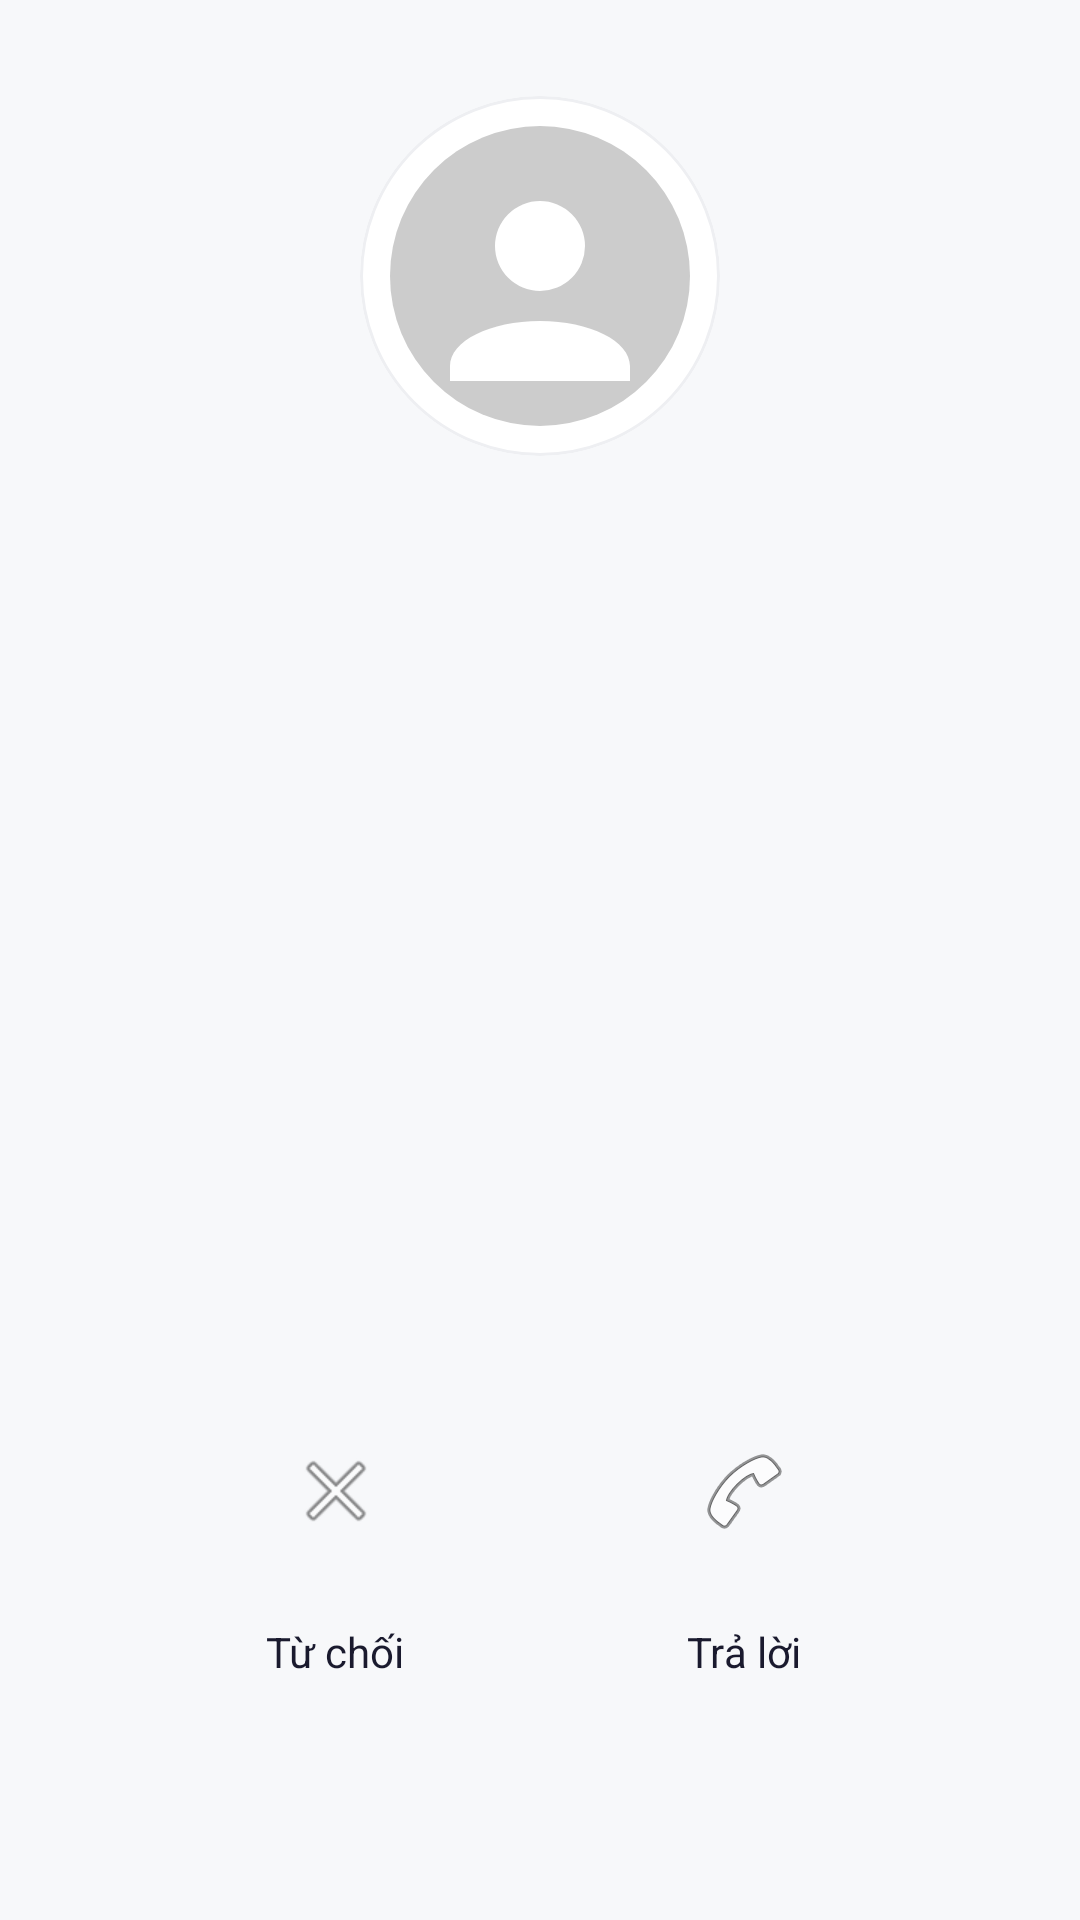

Named icons in this screenshot (1080 × 1920) and their centers, [x,y]:
call: [744,1491]
close clear cancel: [336,1491]
